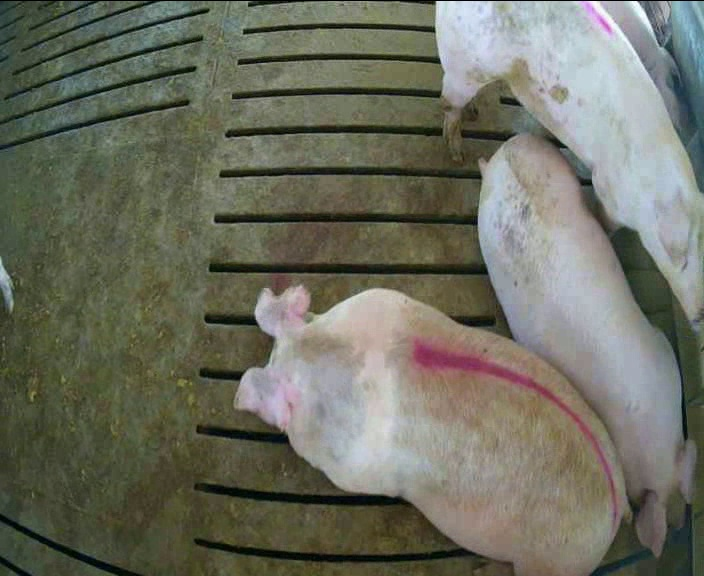pig: (237, 286, 625, 573), (438, 3, 703, 325)
